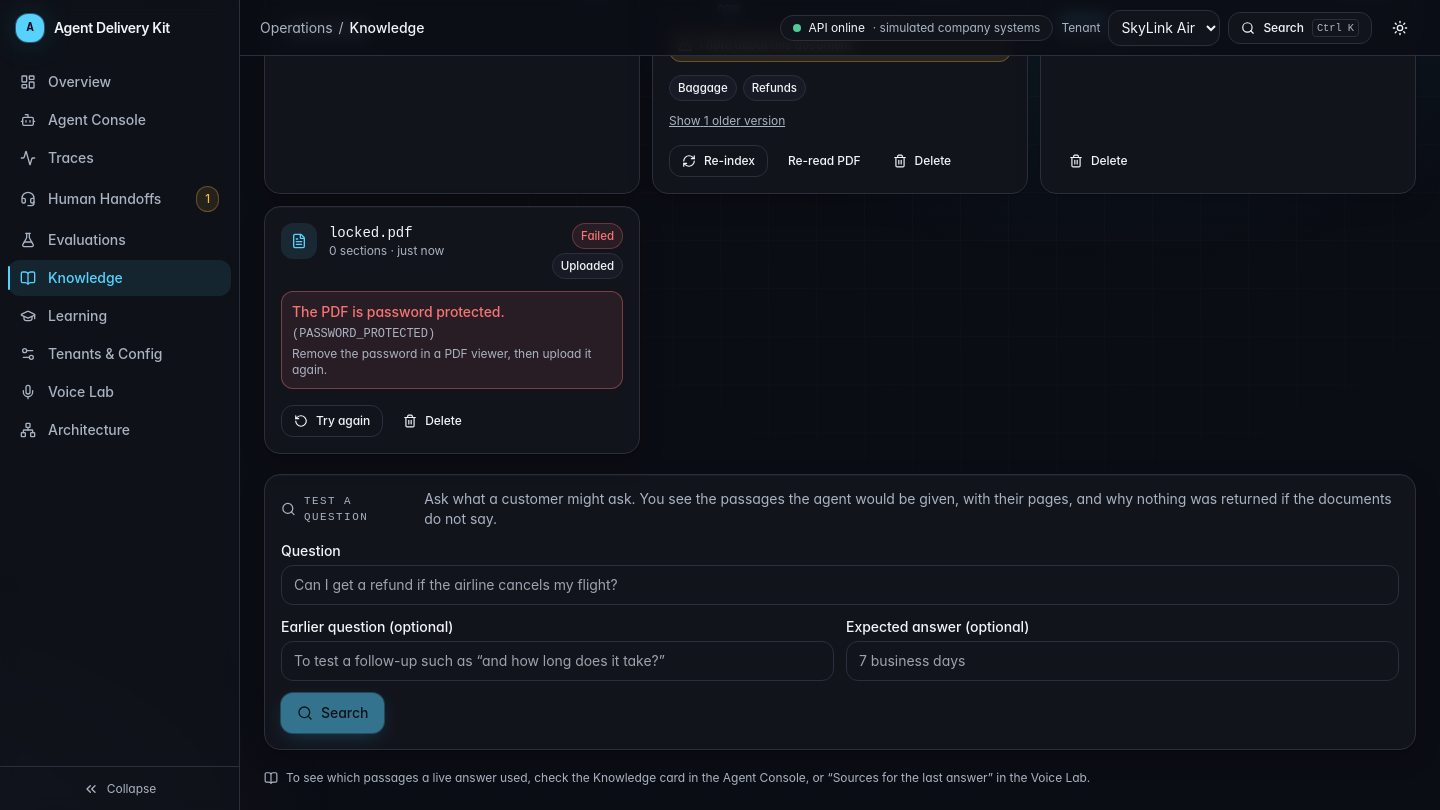
Test: Knowledge page › sends the earlier question so a follow-up can be tested
The image size is (1440, 810).
(page scrolled)
Type "And how long does it take?" into the field labelled "Question" at [840, 585], box [281,565,1399,605]
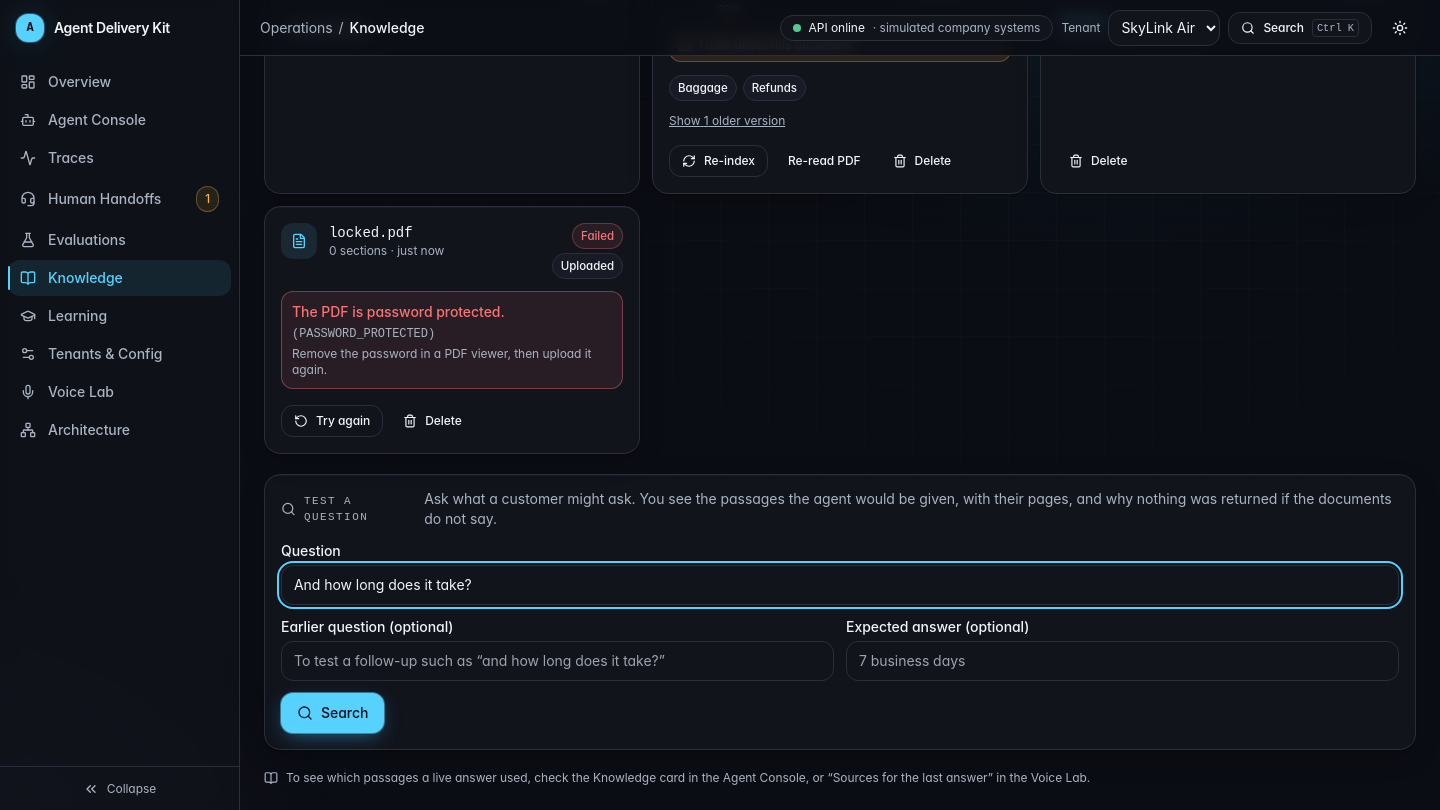
Type "What is the refund policy?" into the field labelled "Earlier question (optional)" at [558, 661], box [281,641,834,681]
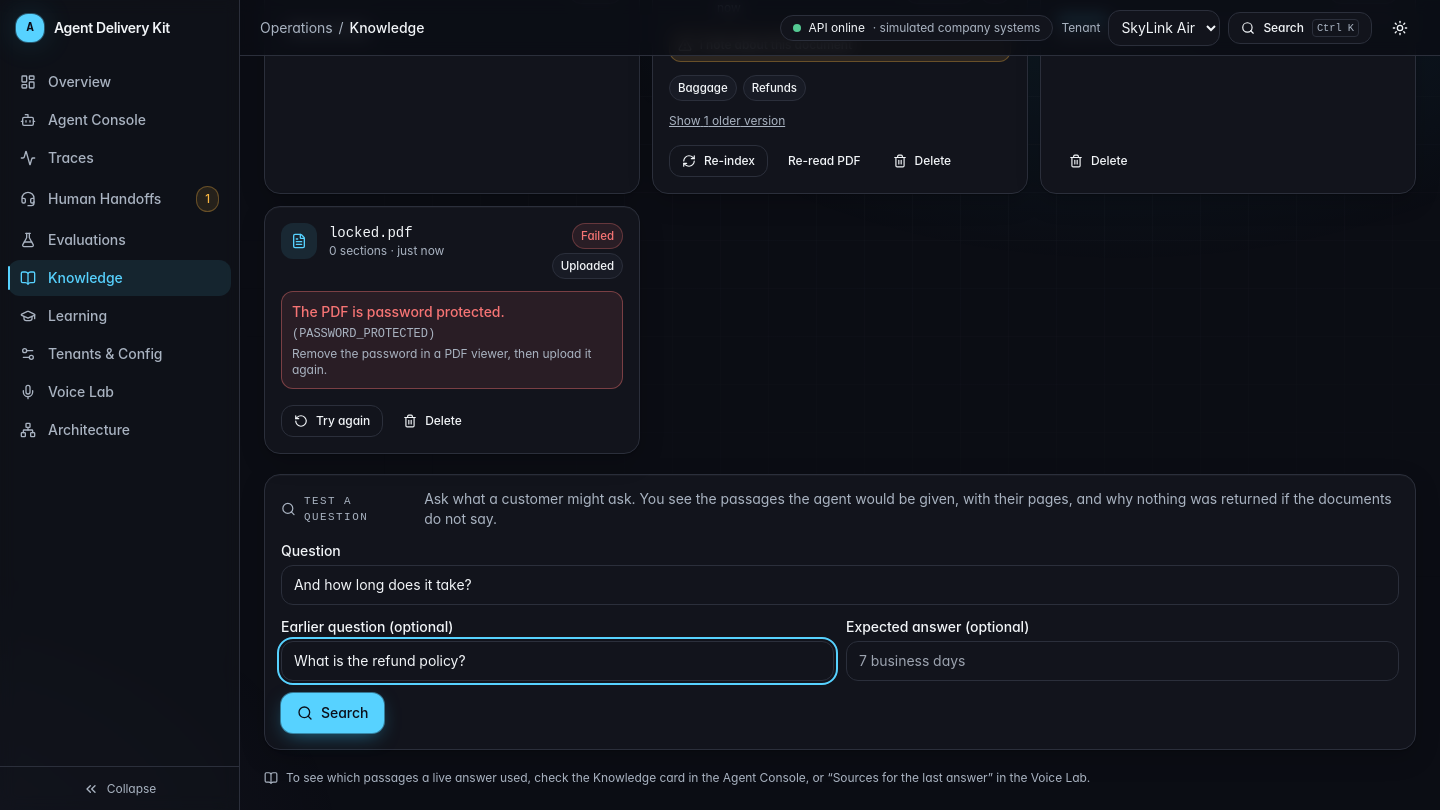
Click the button "Search" at [333, 713], box [281,693,384,733]
(page scrolled)
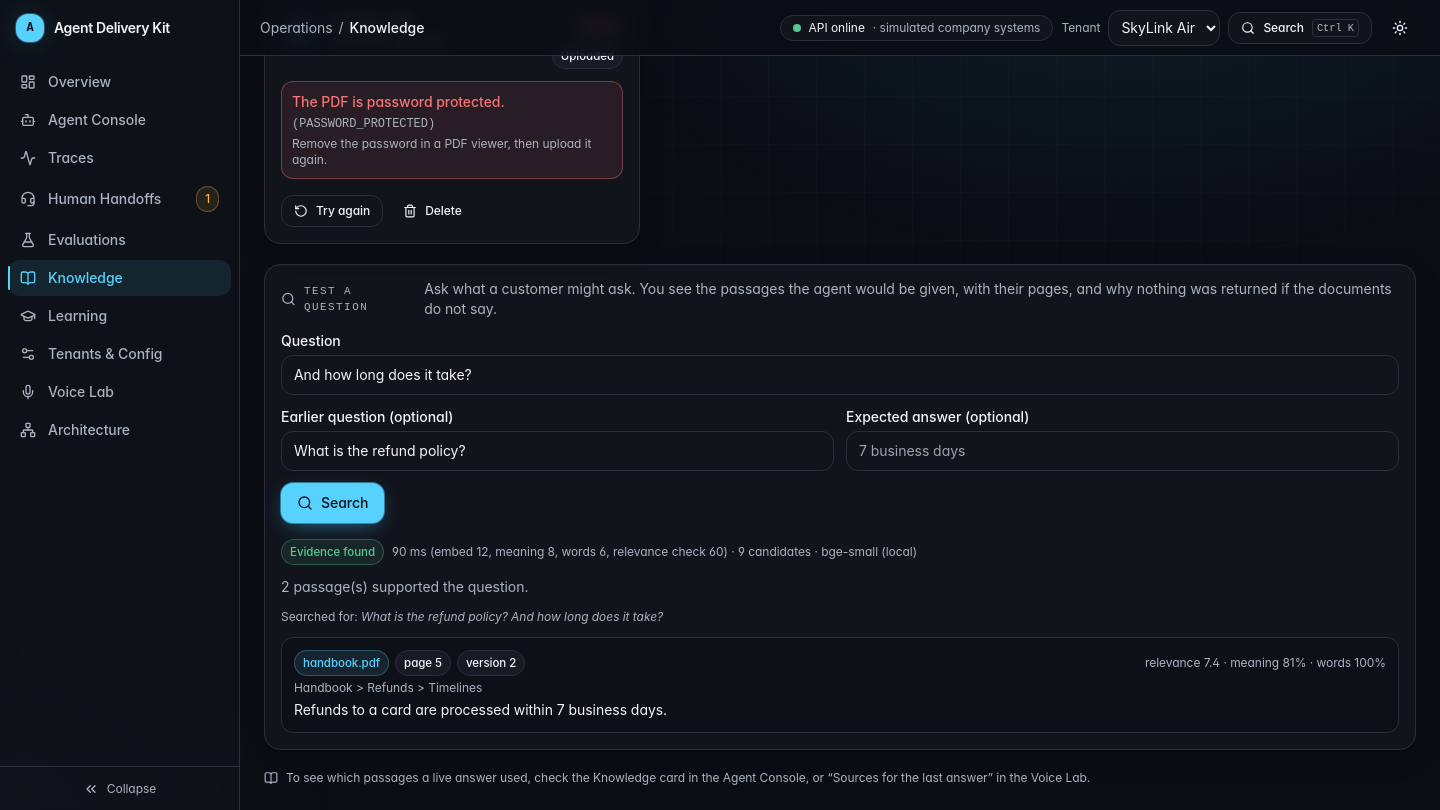
Check: the text "Searched for:" is shown, box [281,609,361,624]
